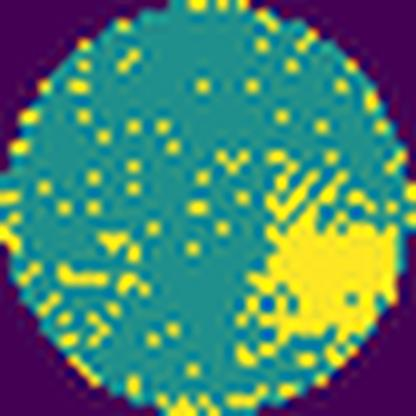Edge-Loc: (230, 202, 400, 365)
